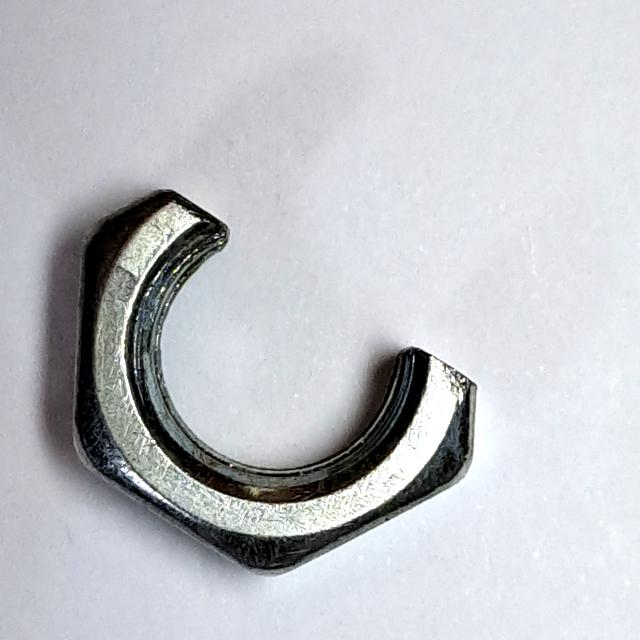Fracture: (59, 171, 499, 592)
